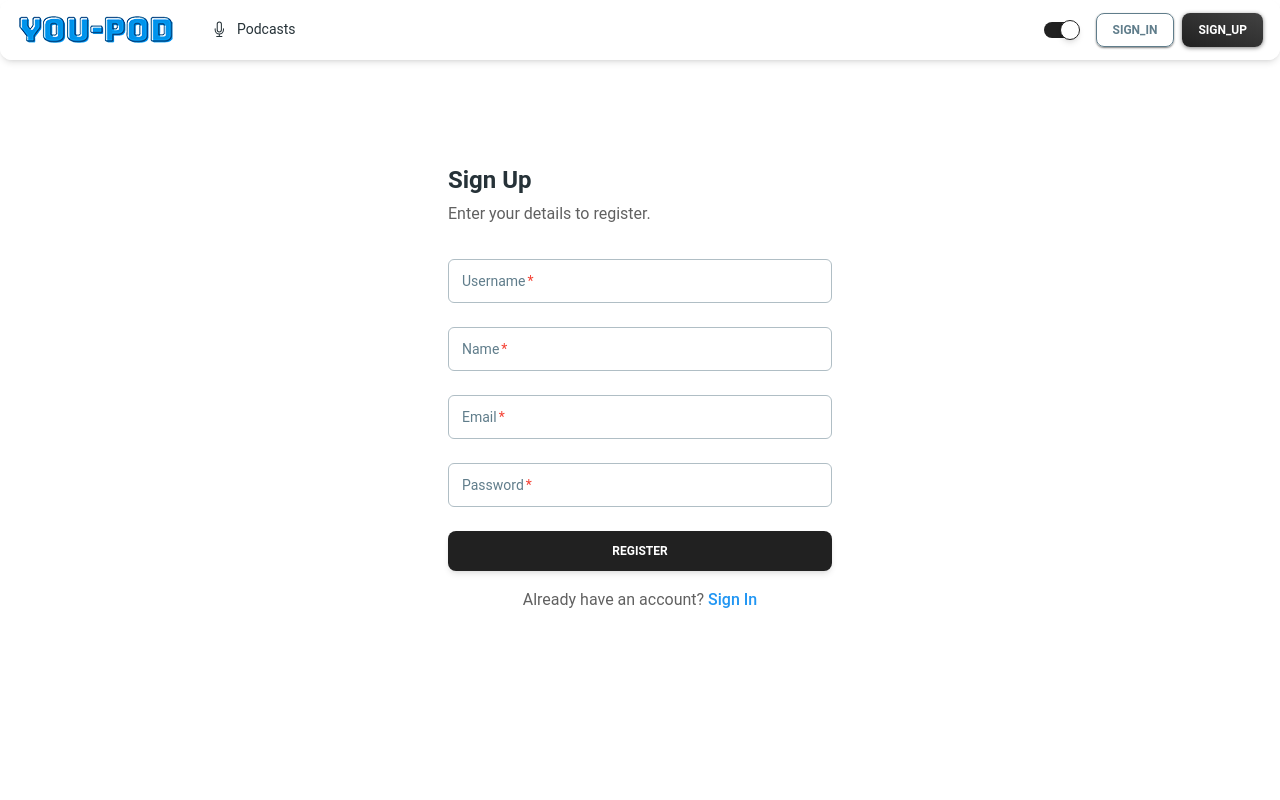
Scenario: POST › should display an error message if the username is already taken
Step 1. Type "existingUser" into the field with id "username-input" → point(640, 281), box [448,259,832,303]
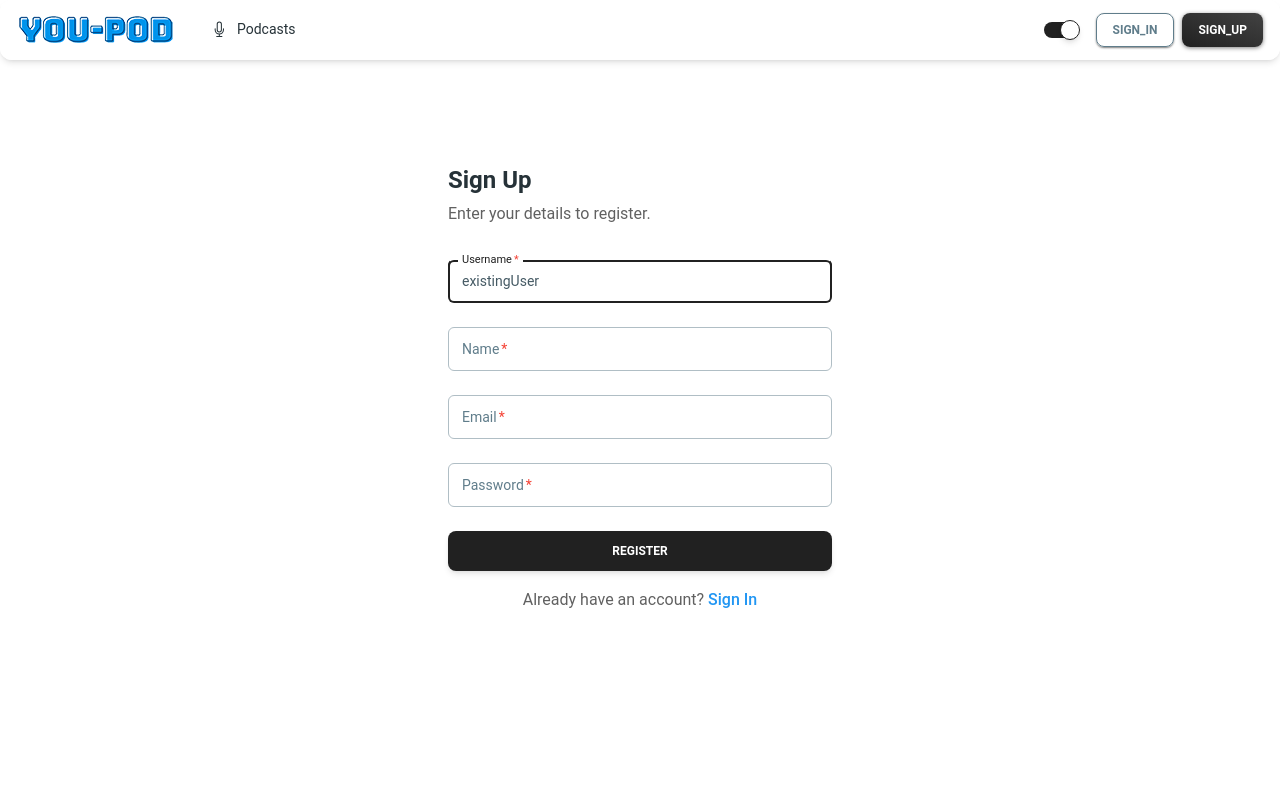
Step 2. Type "Jane Smith" into the field with id "name-input" → point(640, 349), box [448,327,832,371]
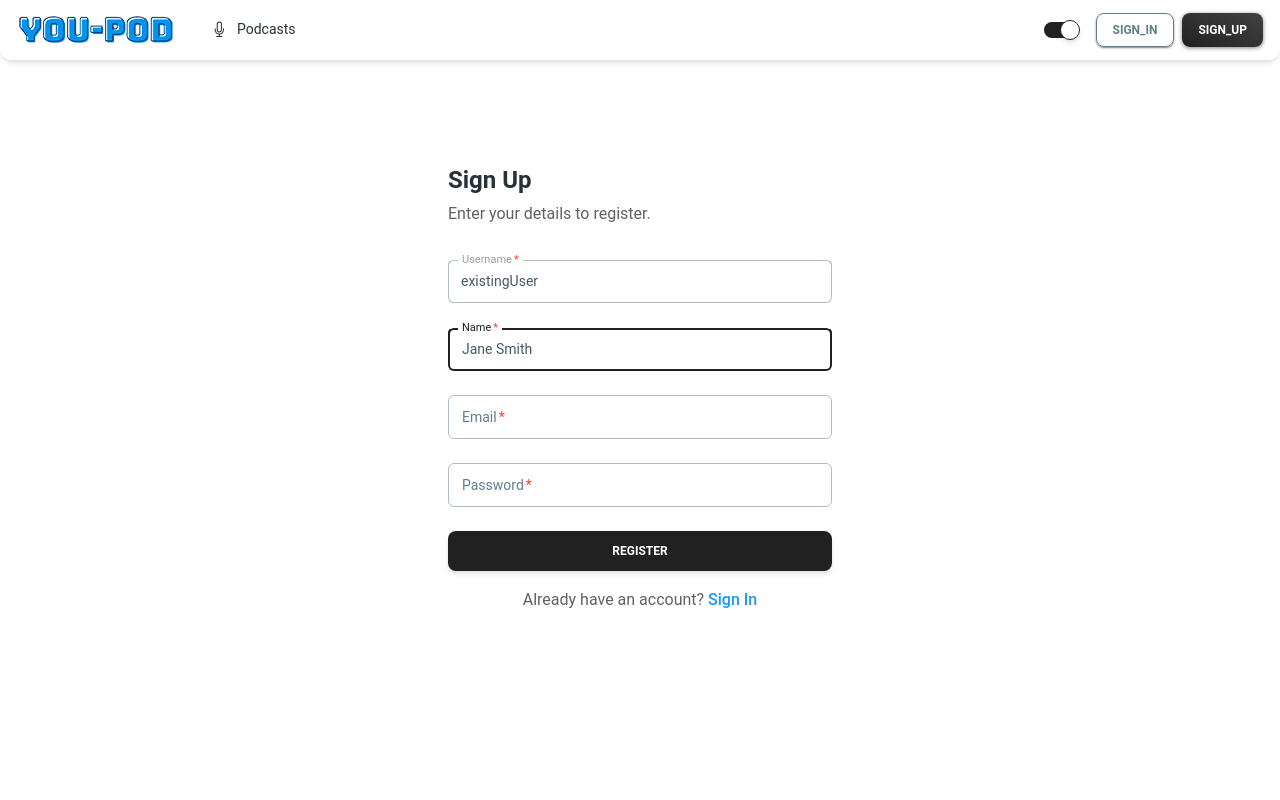
Step 3. Type "jane@example.com" into the field with id "email-input" → point(640, 417), box [448,395,832,439]
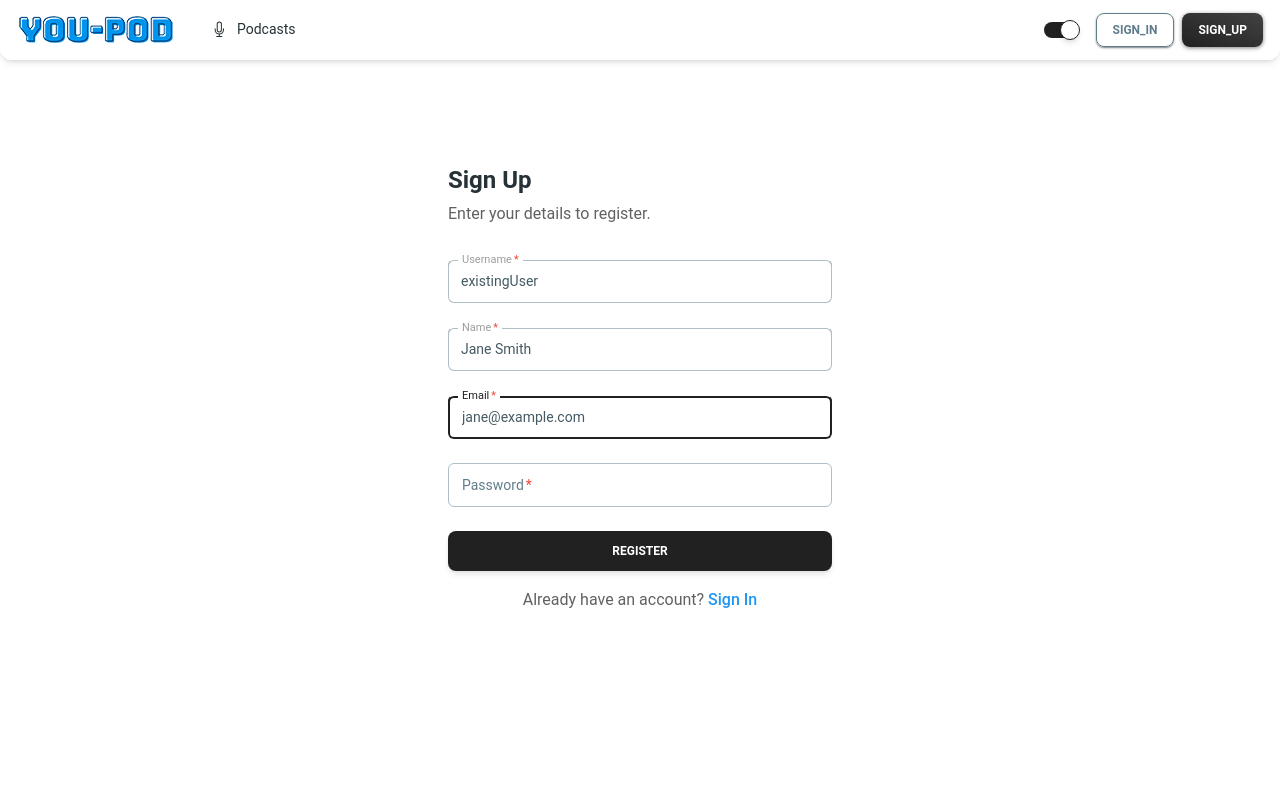
Step 4. Type "password456" into the password field → point(640, 485), box [448,463,832,507]
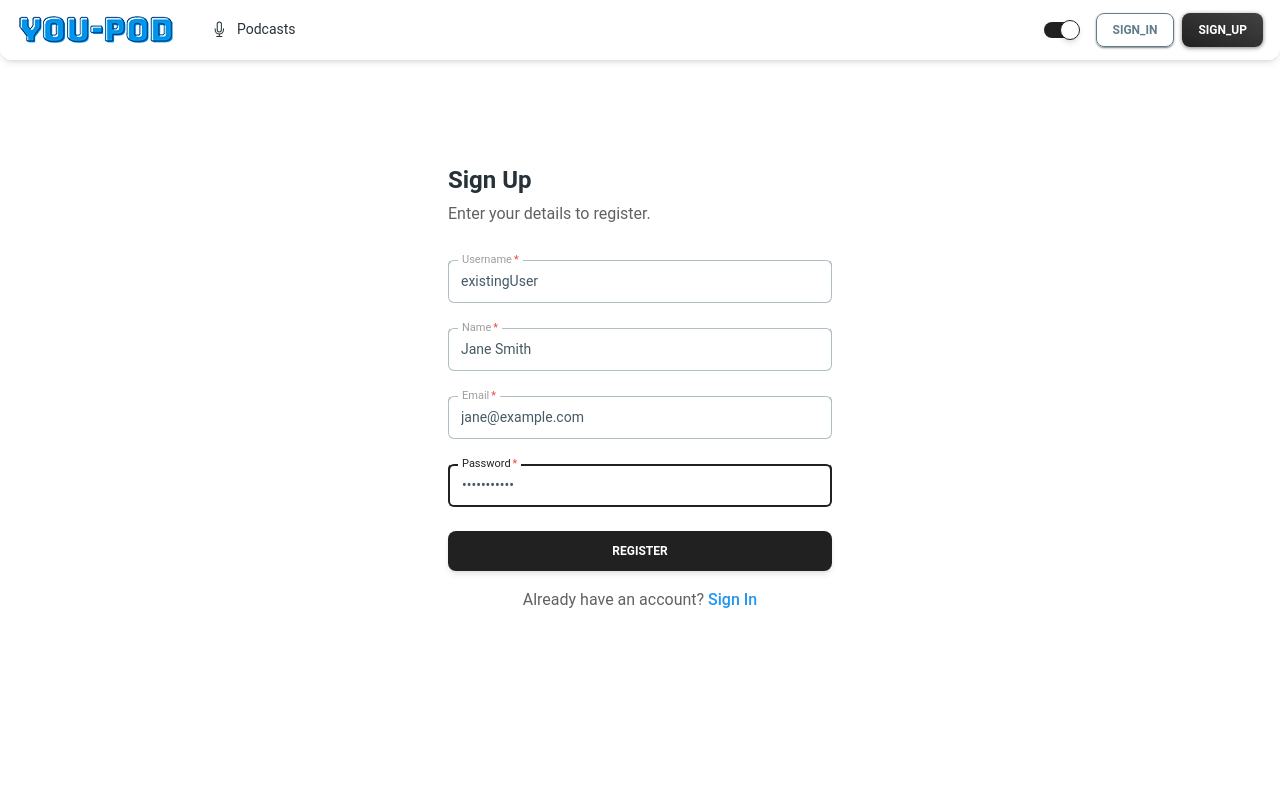
Step 5. Click the button with id "submit-button" → point(640, 551), box [448,531,832,571]
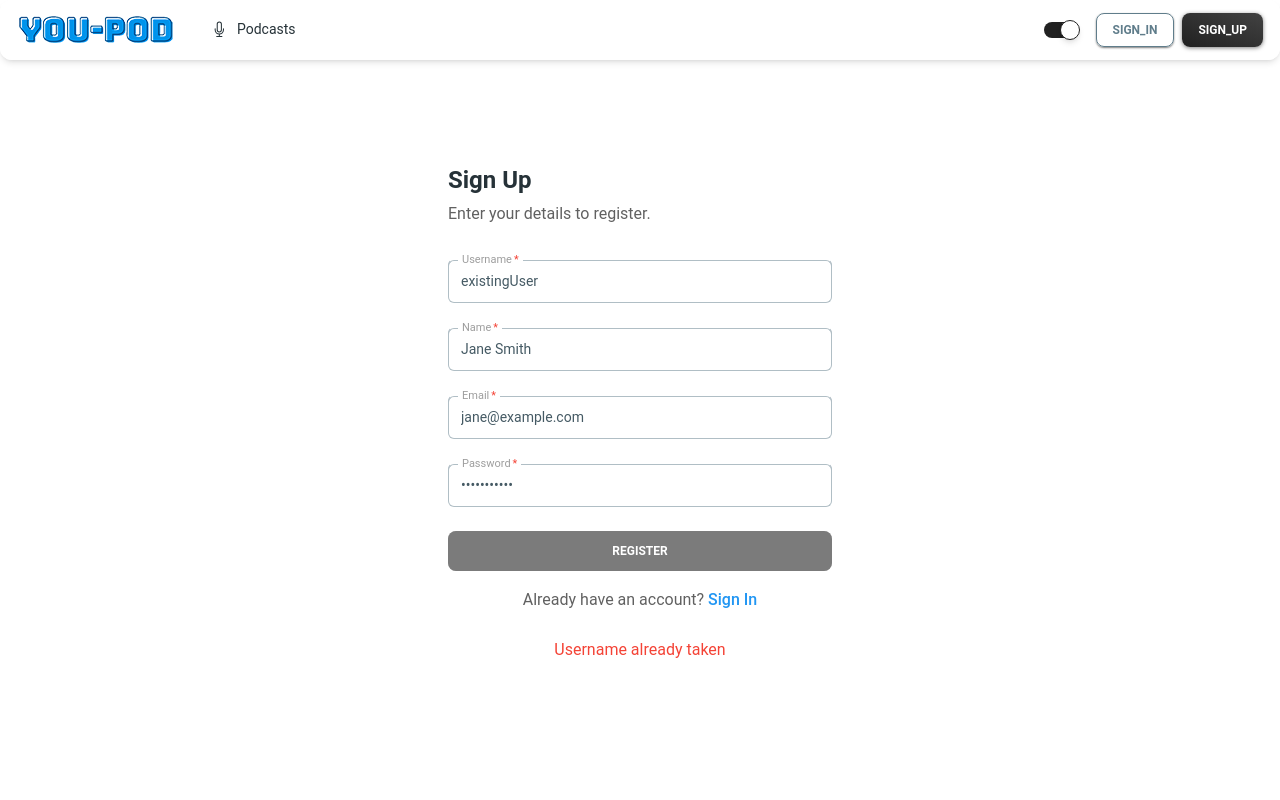
expect the text "Username already taken" is shown: met, box [554,640,726,659]
expect the text with id "error-message" reads "Username already taken": met, box [554,640,725,659]
